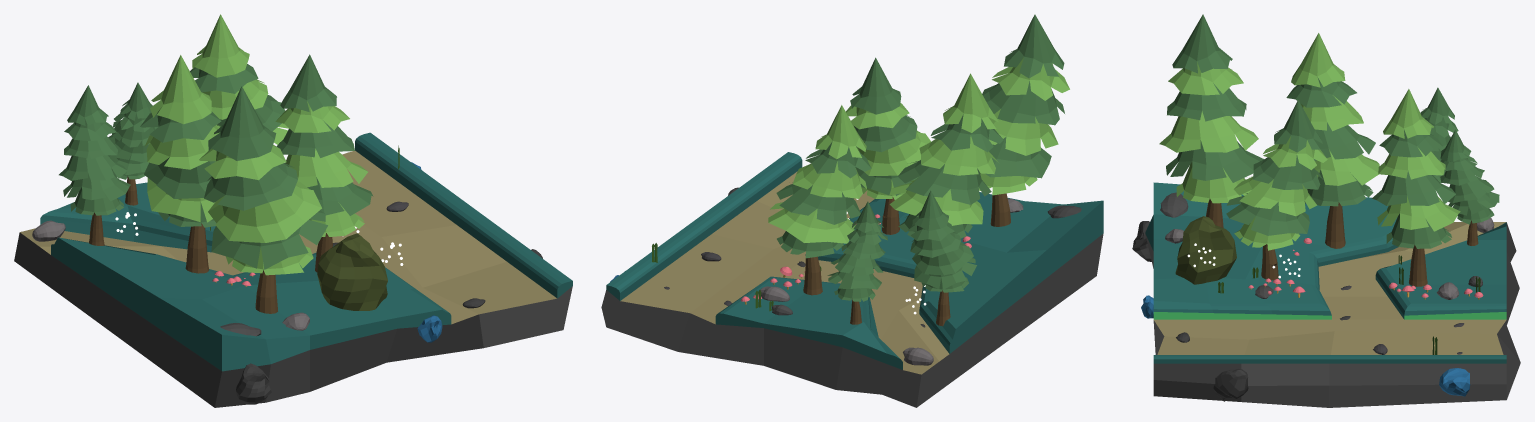
The model's file is forest-scene.gltf.
The picture shows the model from 3 angles, left to right: view 1: azimuth 30°, elevation 25°; view 2: azimuth 150°, elevation 25°; view 3: azimuth 270°, elevation 25°; orthographic projection. The views are drawn at different scales.
Visible parts, largest first — view 1: Plane.002, Cylinder.004, Cylinder.026, Sphere, Sphere.014, Sphere.005, Sphere.016; view 2: Plane.002, Cylinder.004, Cylinder.026, Sphere.005, Sphere.002; view 3: Plane.002, Cylinder.004, Sphere, Sphere.014, Cylinder.026, Sphere.016, Sphere.002, Sphere.005, Plane.004.
Part boxes in pixels (left/top/right/bottom): Plane.002: left=14, top=132, right=572, bottom=407; Cylinder.004: left=108, top=14, right=373, bottom=313; Cylinder.026: left=59, top=85, right=130, bottom=245; Sphere: left=317, top=233, right=387, bottom=310; Sphere.014: left=236, top=249, right=542, bottom=404; Sphere.005: left=32, top=220, right=309, bottom=330; Sphere.016: left=411, top=162, right=442, bottom=342; Plane.002: left=601, top=152, right=1103, bottom=407; Cylinder.004: left=768, top=14, right=1069, bottom=324; Cylinder.026: left=907, top=190, right=976, bottom=326; Sphere.005: left=760, top=198, right=1023, bottom=365; Sphere.002: left=772, top=205, right=1081, bottom=315; Plane.002: left=1145, top=182, right=1520, bottom=407; Cylinder.004: left=1159, top=14, right=1499, bottom=286; Sphere: left=1175, top=216, right=1236, bottom=284; Sphere.014: left=1132, top=221, right=1248, bottom=401; Cylinder.026: left=1420, top=87, right=1458, bottom=182; Sphere.016: left=1141, top=295, right=1470, bottom=396; Sphere.002: left=1160, top=192, right=1482, bottom=298; Sphere.005: left=1165, top=218, right=1494, bottom=299; Plane.004: left=1218, top=255, right=1480, bottom=354.
Size of what is drawn, in the model's own units: 8.59 by 6.51 by 8.8.
